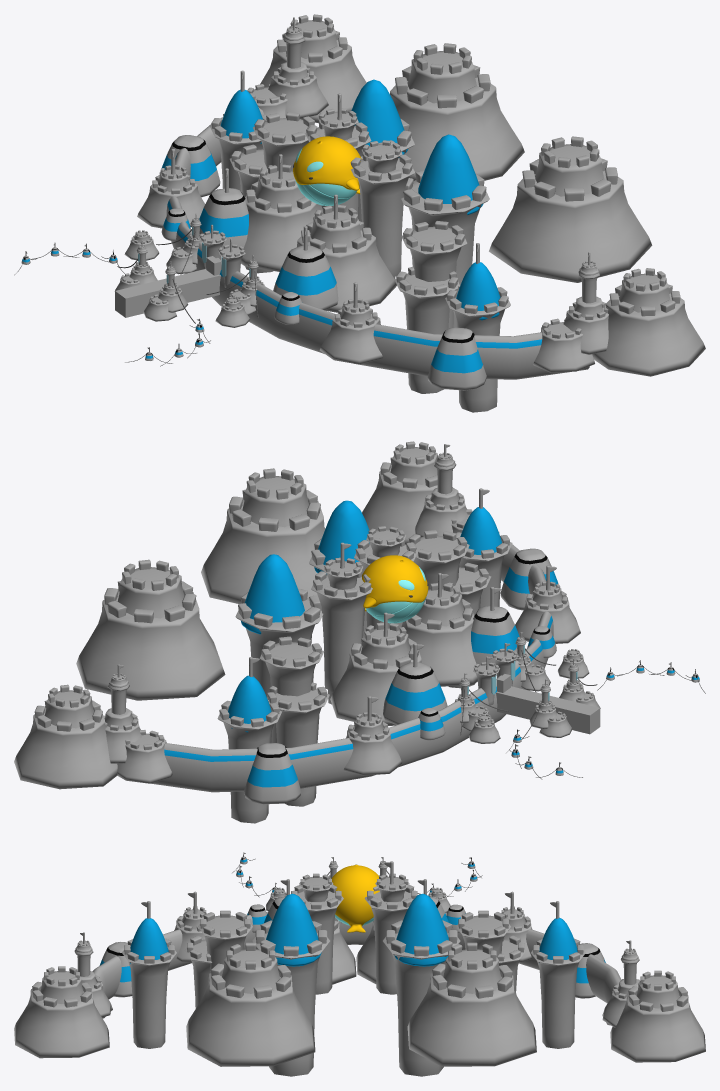
File: CastleTestConcept_Tutorial.fbx
3 views of the same model, one above another, from view 1: azimuth 30°, elevation 25°; view 2: azimuth 150°, elevation 25°; view 3: azimuth 270°, elevation 25° (orthographic). The views are drawn at different scales.
Visible parts, largest first — view 1: group2_pCube36, group2_pCube35, pTorus2, group2_pCube34, pCube146, group2_pCube31, group2_pCube32, group7, group2_pCube33, pCube129, mainBody_c_geo1, group8 (+22 smaller); view 2: group2_pCube35, pTorus2, group2_pCube36, group2_pCube33, pCube149, group2_pCube31, group2_pCube32, group2_pCube34, group8, pCube113, mainBody_c_geo1, pCube132 (+22 smaller); view 3: group2_pCube36, group2_pCube35, group2_pCube34, group2_pCube33, pCube149, pCube146, pCube142, pCube141, pTorus2, pCube113, mainBody_c_geo1, pCube130 (+16 smaller).
Boxes of the visible parts, left/top/right/bottom form: group2_pCube36: left=489, top=136, right=652, bottom=282; group2_pCube35: left=390, top=43, right=524, bottom=180; pTorus2: left=166, top=107, right=589, bottom=379; group2_pCube34: left=592, top=268, right=705, bottom=376; pCube146: left=401, top=134, right=489, bottom=327; group2_pCube31: left=297, top=204, right=396, bottom=312; group2_pCube32: left=241, top=164, right=322, bottom=271; group7: left=533, top=252, right=608, bottom=372; group2_pCube33: left=260, top=14, right=366, bottom=122; pCube129: left=350, top=153, right=414, bottom=277; mainBody_c_geo1: left=293, top=136, right=361, bottom=205; group8: left=247, top=17, right=328, bottom=118; group2_pCube35: left=76, top=559, right=225, bottom=700; pTorus2: left=151, top=544, right=553, bottom=792; group2_pCube36: left=201, top=468, right=325, bottom=603; group2_pCube33: left=14, top=684, right=117, bottom=789; pCube149: left=235, top=554, right=323, bottom=743; group2_pCube31: left=401, top=583, right=477, bottom=686; group2_pCube32: left=330, top=622, right=421, bottom=725; group2_pCube34: left=362, top=441, right=452, bottom=544; group8: left=103, top=664, right=172, bottom=783; pCube113: left=311, top=570, right=372, bottom=691; mainBody_c_geo1: left=362, top=555, right=428, bottom=623; pCube132: left=267, top=682, right=329, bottom=806; group2_pCube36: left=186, top=942, right=315, bottom=1066; group2_pCube35: left=407, top=942, right=536, bottom=1066; group2_pCube34: left=14, top=966, right=109, bottom=1058; group2_pCube33: left=610, top=970, right=705, bottom=1062; pCube149: left=383, top=893, right=460, bottom=1076; pCube146: left=252, top=893, right=329, bottom=1076; pCube142: left=531, top=938, right=585, bottom=1048; pCube141: left=122, top=938, right=176, bottom=1048; pTorus2: left=92, top=912, right=621, bottom=1003; pCube113: left=364, top=884, right=417, bottom=994; mainBody_c_geo1: left=331, top=864, right=379, bottom=932; pCube130: left=198, top=910, right=252, bottom=973.
Bounding box in the file's own units: 81.87 × 33.28 × 111.
